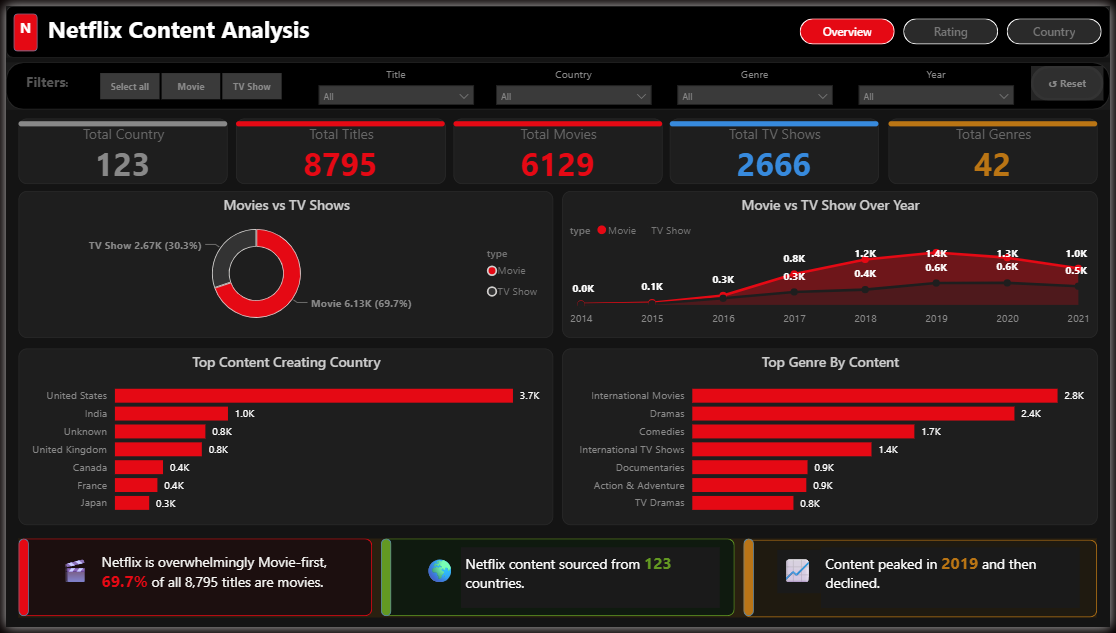

The page's visual inventory and layout, read from the dashboard file:
{"tool":"powerbi","page":{"name":"Overview","canvas":[1280,720],"ordinal":0},"visuals":[{"type":"shape","box":[0,0,1280,60],"z":0,"group":"g10"},{"type":"shape","box":[0,65,1280,55],"z":0,"group":"g9"},{"type":"card","title":"Total Country","fields":{"Values":["Count(clean_netflix_shows_movies_dataset.country)"]},"box":[15,130,242,76],"z":0,"group":"g5"},{"type":"card","title":"Total Titles","fields":{"Values":["Measure Table.Total Tittles"]},"box":[267,130,242.9,76],"z":0,"group":"g4"},{"type":"card","title":"Total Movies","fields":{"Values":["Measure Table.Total Movies"]},"box":[519,130,242,76],"z":0,"group":"g3"},{"type":"card","title":"Total TV Shows","fields":{"Values":["Measure Table.Total TV Shows"]},"box":[770.3,130,242,76],"z":0,"group":"g6"},{"type":"card","title":"Total Genres","fields":{"Values":["Measure Table.Total Genres"]},"box":[1023,130,242,76],"z":0,"group":"g7"},{"type":"lineChart","title":"Movie vs TV Show Over Year","fields":{"Category":["clean_netflix_shows_movies_dataset.year_added"],"Series":["clean_netflix_shows_movies_dataset.type"],"Y":["Count(clean_netflix_shows_movies_dataset.show_id)"]},"box":[645,214,620.5,170],"z":0},{"type":"shape","box":[435,617.2,410,90],"z":0,"group":"g8"},{"type":"shape","box":[854.7,618,410,90],"z":0,"group":"g11"},{"type":"shape","box":[854.7,617.2,12,90],"z":500,"group":"g11"},{"type":"pageNavigator","box":[920,15,352,30],"z":1000,"group":"g10"},{"type":"actionButton","box":[1188,69,84,40],"z":1000,"group":"g9"},{"type":"shape","box":[15,130,242,12.3],"z":1000,"group":"g5"},{"type":"shape","box":[267,130,242,12.3],"z":1000,"group":"g4"},{"type":"shape","box":[519,130,242,12.3],"z":1000,"group":"g3"},{"type":"shape","box":[770,130,242,12.3],"z":1000,"group":"g6"},{"type":"shape","box":[1023,130.1,242,12.3],"z":1000,"group":"g7"},{"type":"donutChart","title":"Movies vs TV Shows","fields":{"Category":["clean_netflix_shows_movies_dataset.type"],"Y":["Count(clean_netflix_shows_movies_dataset.show_id)"]},"box":[15,214,620,170],"z":1000},{"type":"shape","box":[434.7,617.2,12,90],"z":1000,"group":"g8"},{"type":"textbox","box":[945,628,300,70],"z":1250,"group":"g11"},{"type":"textbox","box":[894,630,50,50],"z":1625,"group":"g11"},{"type":"shape","box":[8,8,28,44],"z":2000,"group":"g10"},{"type":"slicer","title":"Year","fields":{"Values":["clean_netflix_shows_movies_dataset.year_added"]},"box":[978,70,200,45],"z":2000,"group":"g9"},{"type":"barChart","title":"Top Content Creating Country","fields":{"Category":["clean_netflix_shows_movies_dataset.country"],"Y":["Count(clean_netflix_shows_movies_dataset.show_id)"]},"box":[14.7,397.5,619.6,205],"z":2000},{"type":"textbox","box":[527,628,300,70],"z":2500,"group":"g8"},{"type":"textbox","box":[8,8,28,45],"z":3000,"group":"g10"},{"type":"slicer","title":"Title","fields":{"Values":["clean_netflix_shows_movies_dataset.title"]},"box":[352,70,200,45],"z":3000,"group":"g9"},{"type":"clusteredBarChart","title":"Top Genre By Content","fields":{"Category":["clean_netflix_shows_movies_dataset.genre"],"Y":["Count(clean_netflix_shows_movies_dataset.show_id)"]},"box":[645,397,620.5,205],"z":3000},{"type":"shape","box":[15.2,617.2,410,90],"z":3000,"group":"g1"},{"type":"textbox","box":[480,630,50,50],"z":3250,"group":"g8"},{"type":"shape","box":[14.7,617.2,12,90],"z":3500,"group":"g1"},{"type":"textbox","box":[106.7,628,300,70],"z":3750,"group":"g1"},{"type":"textbox","box":[44,8,580,44],"z":4000,"group":"g10"},{"type":"slicer","title":"Type","fields":{"Values":["clean_netflix_shows_movies_dataset.type"]},"box":[88,75,250,35],"z":4000,"group":"g9"},{"type":"group","id":"g1","title":"Insight1","box":[14.7,617.2,410.5,90],"z":4000,"group":"g2"},{"type":"textbox","box":[56,630,50,50],"z":4000,"group":"g1"},{"type":"slicer","title":"Country","fields":{"Values":["clean_netflix_shows_movies_dataset.country"]},"box":[558,70,200,45],"z":5000,"group":"g9"},{"type":"slicer","title":"Genre","fields":{"Values":["clean_netflix_shows_movies_dataset.genre"]},"box":[768,70,200,45],"z":6000,"group":"g9"},{"type":"group","id":"g2","title":"Insights","box":[14.7,617.2,1250,90.8],"z":6000},{"type":"textbox","box":[8.6,73.6,78,33],"z":7000,"group":"g9"},{"type":"group","id":"g3","title":"Total Country grp","box":[519,130,242,76],"z":7000},{"type":"group","id":"g4","title":"Total Title grp","box":[267,130,242.9,76],"z":8000},{"type":"group","id":"g5","title":"Total Country Grp","box":[15,130,242,76],"z":9000},{"type":"group","id":"g6","title":"Total TV Shows Grp","box":[770,130,242.3,76],"z":10000},{"type":"group","id":"g7","title":"Total Genre Grp","box":[1023,130,242,76],"z":11000},{"type":"group","id":"g8","title":"Insight2","box":[434.7,617.2,410.3,90],"z":11001,"group":"g2"},{"type":"group","id":"g9","title":"Slicer panel","box":[0,65,1280,55],"z":11250},{"type":"group","id":"g10","title":"Dashboard Title Panel","box":[0,0,1280,60],"z":11500},{"type":"group","id":"g11","title":"Insight3","box":[854.7,617.2,410,90.8],"z":16001,"group":"g2"}]}

Visuals, with their boxes in screenshot pixels (x1, y1, x2, y2), scaled from the page's 1280x720 canvas onto the 1116x633 screenshot:
shape: x1=0, y1=0, x2=1115, y2=53
shape: x1=0, y1=57, x2=1115, y2=106
"Total Country" card: x1=13, y1=114, x2=224, y2=181
"Total Titles" card: x1=233, y1=114, x2=445, y2=181
"Total Movies" card: x1=453, y1=114, x2=663, y2=181
"Total TV Shows" card: x1=672, y1=114, x2=883, y2=181
"Total Genres" card: x1=892, y1=114, x2=1103, y2=181
"Movie vs TV Show Over Year" lineChart: x1=562, y1=188, x2=1103, y2=338
shape: x1=379, y1=543, x2=737, y2=622
shape: x1=745, y1=543, x2=1103, y2=622
shape: x1=745, y1=543, x2=756, y2=622
pageNavigator: x1=802, y1=13, x2=1109, y2=40
actionButton: x1=1036, y1=61, x2=1109, y2=96
shape: x1=13, y1=114, x2=224, y2=125
shape: x1=233, y1=114, x2=444, y2=125
shape: x1=453, y1=114, x2=663, y2=125
shape: x1=671, y1=114, x2=882, y2=125
shape: x1=892, y1=114, x2=1103, y2=125
"Movies vs TV Shows" donutChart: x1=13, y1=188, x2=554, y2=338
shape: x1=379, y1=543, x2=389, y2=622
textbox: x1=824, y1=552, x2=1085, y2=614
textbox: x1=779, y1=554, x2=823, y2=598
shape: x1=7, y1=7, x2=31, y2=46
"Year" slicer: x1=853, y1=62, x2=1027, y2=101
"Top Content Creating Country" barChart: x1=13, y1=349, x2=553, y2=530
textbox: x1=459, y1=552, x2=721, y2=614
textbox: x1=7, y1=7, x2=31, y2=47
"Title" slicer: x1=307, y1=62, x2=481, y2=101
"Top Genre By Content" clusteredBarChart: x1=562, y1=349, x2=1103, y2=529
shape: x1=13, y1=543, x2=371, y2=622
textbox: x1=418, y1=554, x2=462, y2=598
shape: x1=13, y1=543, x2=23, y2=622
textbox: x1=93, y1=552, x2=355, y2=614
textbox: x1=38, y1=7, x2=544, y2=46
"Type" slicer: x1=77, y1=66, x2=295, y2=97
"Insight1" group: x1=13, y1=543, x2=371, y2=622
textbox: x1=49, y1=554, x2=92, y2=598
"Country" slicer: x1=487, y1=62, x2=661, y2=101
"Genre" slicer: x1=670, y1=62, x2=844, y2=101
"Insights" group: x1=13, y1=543, x2=1103, y2=622
textbox: x1=7, y1=65, x2=76, y2=94
"Total Country grp" group: x1=453, y1=114, x2=663, y2=181
"Total Title grp" group: x1=233, y1=114, x2=445, y2=181
"Total Country Grp" group: x1=13, y1=114, x2=224, y2=181
"Total TV Shows Grp" group: x1=671, y1=114, x2=883, y2=181
"Total Genre Grp" group: x1=892, y1=114, x2=1103, y2=181
"Insight2" group: x1=379, y1=543, x2=737, y2=622
"Slicer panel" group: x1=0, y1=57, x2=1115, y2=106
"Dashboard Title Panel" group: x1=0, y1=0, x2=1115, y2=53
"Insight3" group: x1=745, y1=543, x2=1103, y2=622
